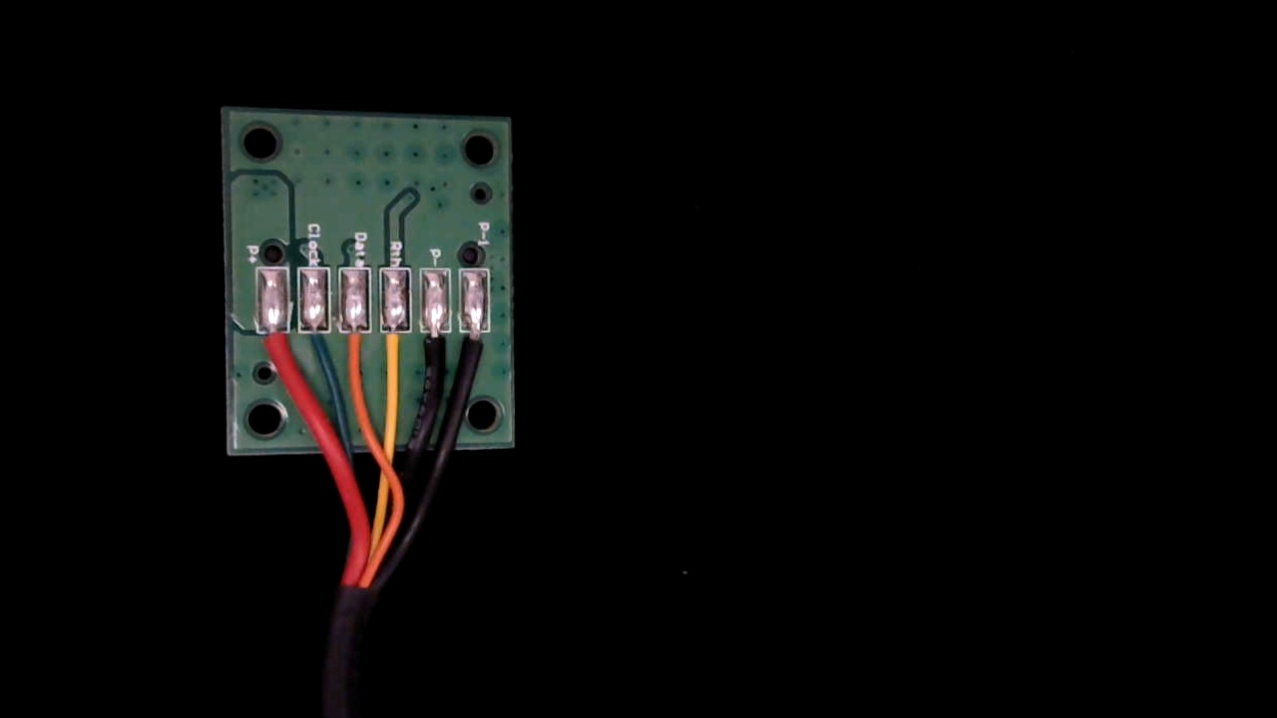Black: (417, 313, 452, 387)
Black1: (460, 315, 493, 383)
Green: (295, 311, 330, 382)
Orange: (340, 312, 373, 385)
Red: (255, 309, 290, 380)
Yellow: (377, 312, 412, 387)
